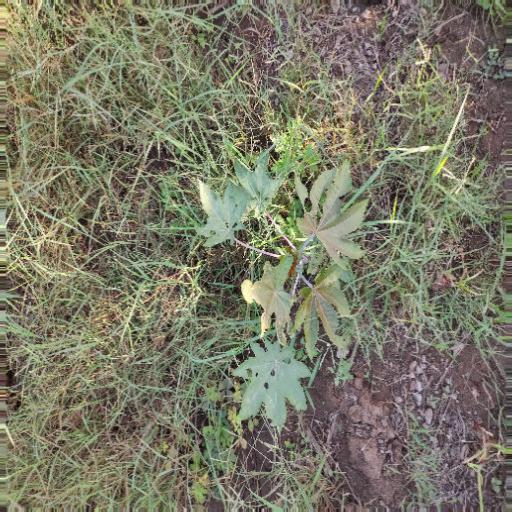weed: (46, 57, 489, 448)
